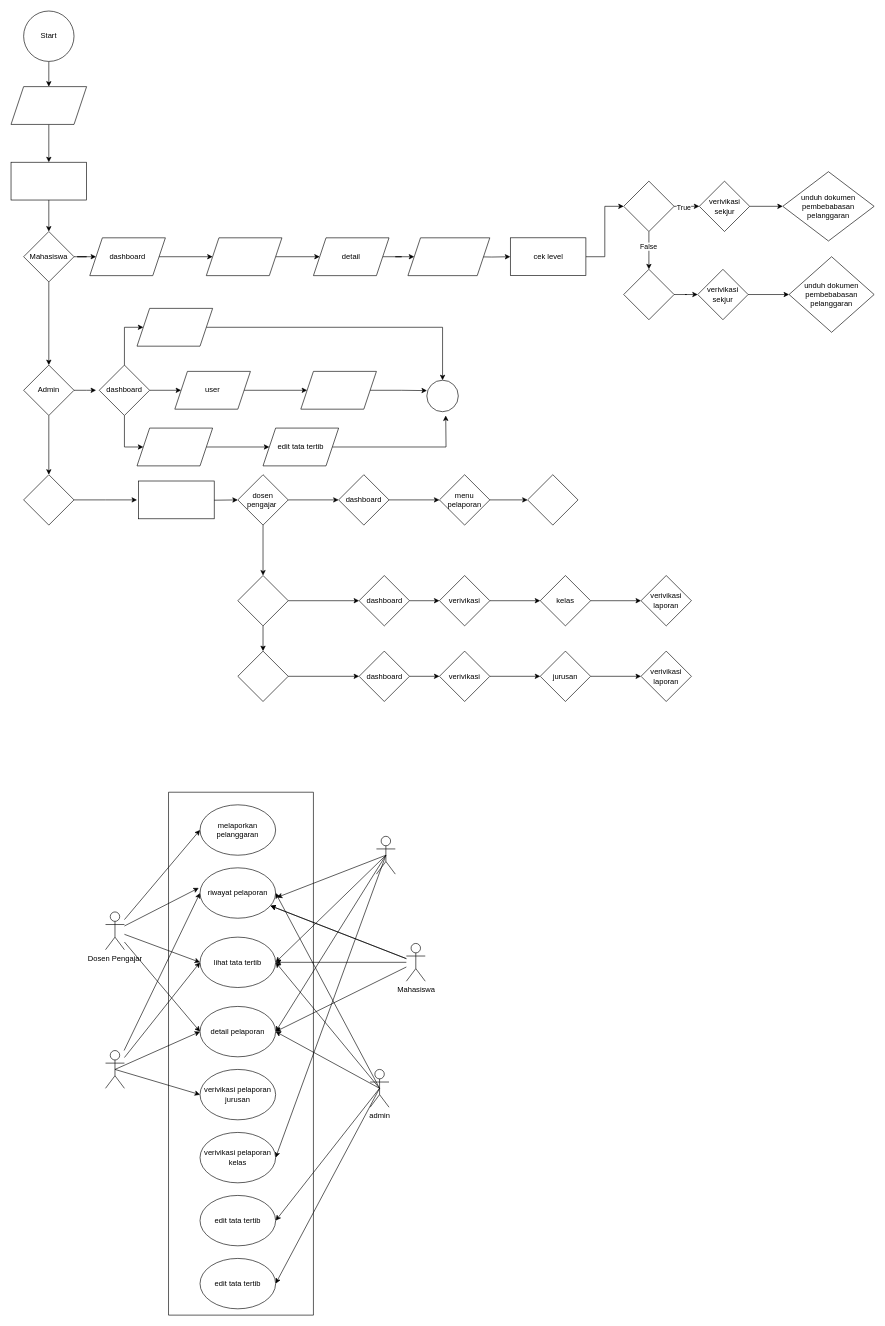
This 885x1326 diagram has some shape labels left out. The shapes that lost their labels are listed below. From the top down, each one's box as (x1, y1, x2, y2) in pixels, then its label:
(10, 86, 87, 124): home page
(10, 162, 87, 200): Login (cek akses)
(623, 180, 674, 232): lv.1-2
(206, 237, 282, 276): riwayat pelanggaran
(407, 237, 490, 276): upload bukti pengerjaan sanksi
(623, 269, 674, 320): lv.3-5
(136, 308, 213, 346): melihat pelangaran
(300, 371, 376, 409): edit user
(136, 427, 213, 466): tata tertib
(23, 474, 74, 525): Dosen
(138, 480, 214, 519): cek dosen
(527, 474, 578, 525): tambah laporan
(237, 575, 288, 626): dpa
(237, 650, 288, 702): sekjur
(376, 836, 395, 874): Dosen DPA
(105, 1050, 124, 1088): Kajur
